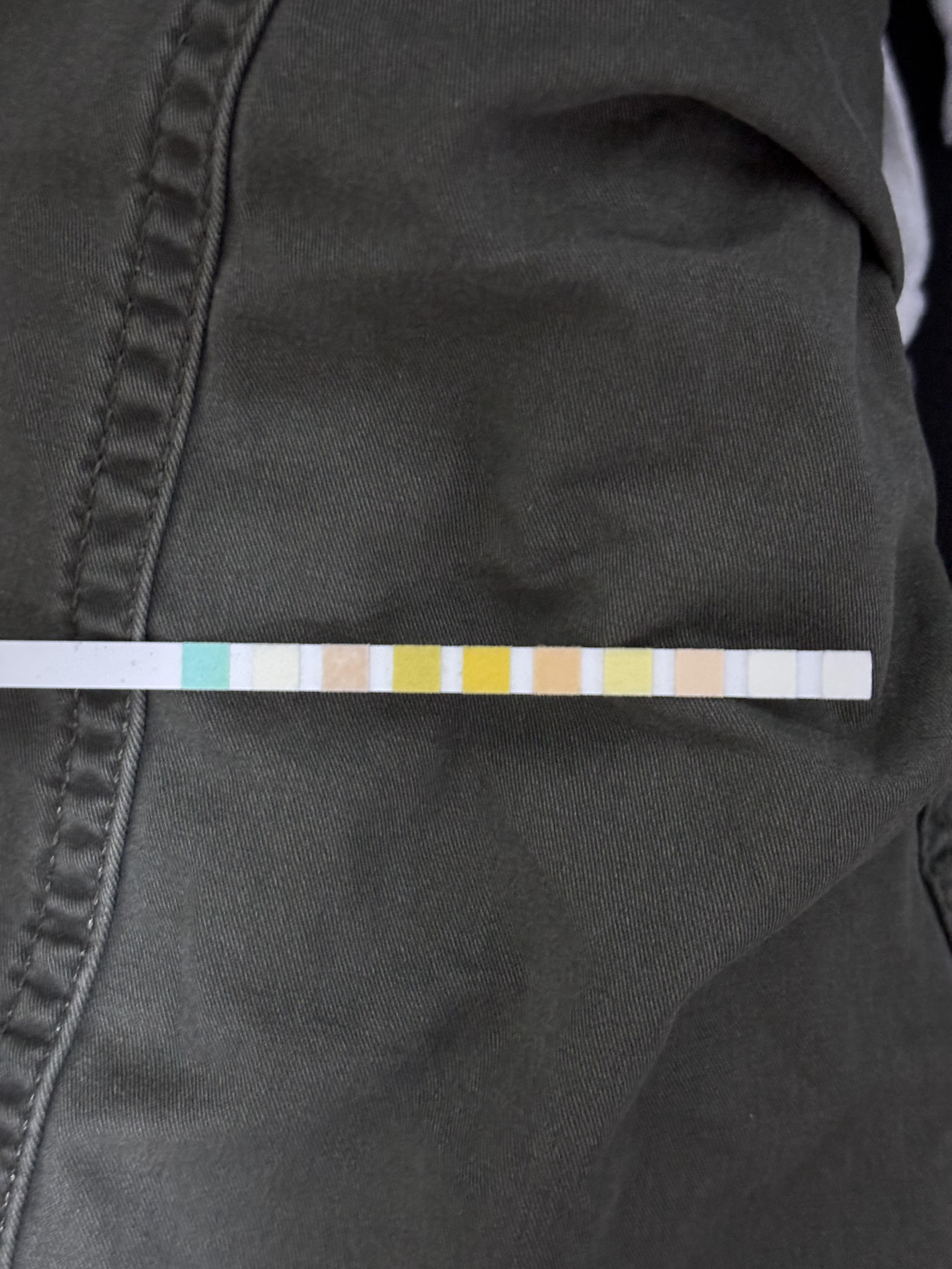Bilirubin: (254, 644, 298, 690)
Blood: (464, 647, 513, 694)
Glucose: (182, 644, 229, 690)
Ketone: (325, 646, 368, 690)
Leukocytes: (825, 652, 869, 698)
Nitrite: (750, 651, 795, 697)
Protein: (605, 649, 651, 695)
SpGravity: (396, 646, 439, 691)
Urobilinogen: (676, 650, 723, 697)
pH: (534, 648, 580, 695)
strip: (3, 642, 871, 700)
